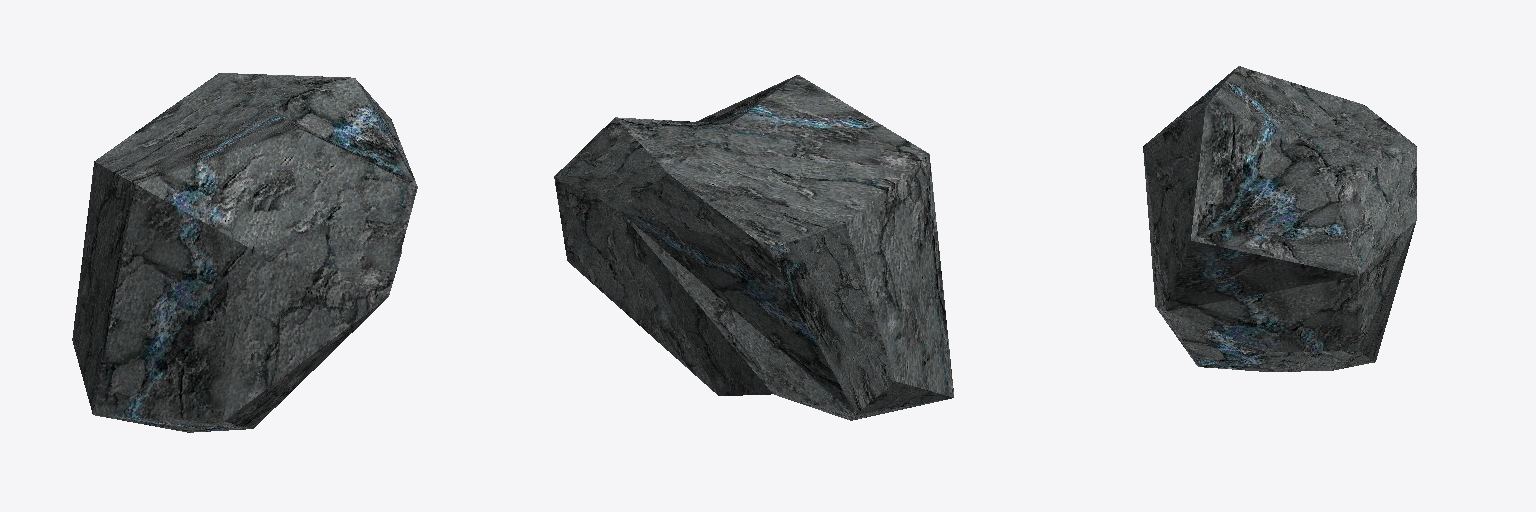
The picture shows the model from 3 angles: view 1: azimuth 30°, elevation 25°; view 2: azimuth 150°, elevation 25°; view 3: azimuth 270°, elevation 25°; orthographic projection.
Parts seen in each view (by area): view 1: Root; view 2: Root; view 3: Root.
Part boxes in pixels (left/top/right/bottom): Root: left=72, top=73, right=417, bottom=432; Root: left=554, top=75, right=953, bottom=420; Root: left=1143, top=66, right=1416, bottom=371.
Size of the model in its own units: 80.33 by 66.99 by 54.53.
1 materials, 1 textured.